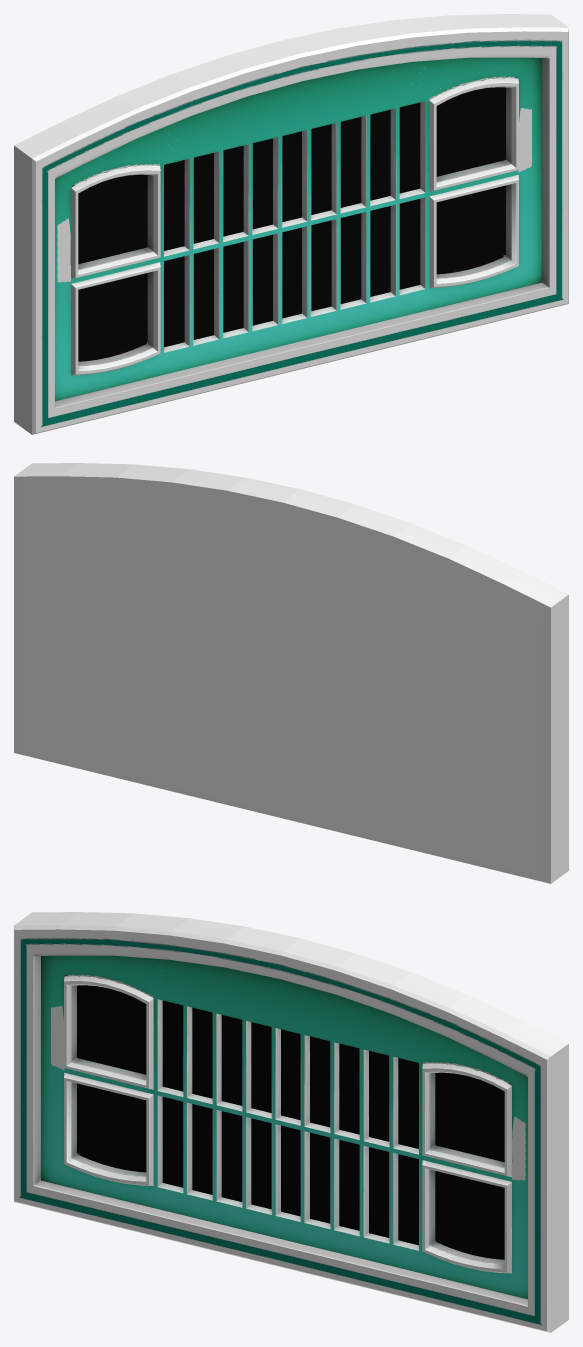
Rendered from Mesh_Scoreboard.FBX.
3 views of the same model, one above another, from view 1: azimuth 30°, elevation 25°; view 2: azimuth 150°, elevation 25°; view 3: azimuth 330°, elevation 25° (orthographic).
Parts seen in each view (by area): view 1: Scorenoard_Final001; view 2: Scorenoard_Final001; view 3: Scorenoard_Final001.
Boxes of the visible parts, <box> form: Scorenoard_Final001: <box>14,14,568,434</box>; Scorenoard_Final001: <box>14,463,568,883</box>; Scorenoard_Final001: <box>14,912,568,1332</box>.
Size of the model in its own units: 245 by 138 by 15.62.
